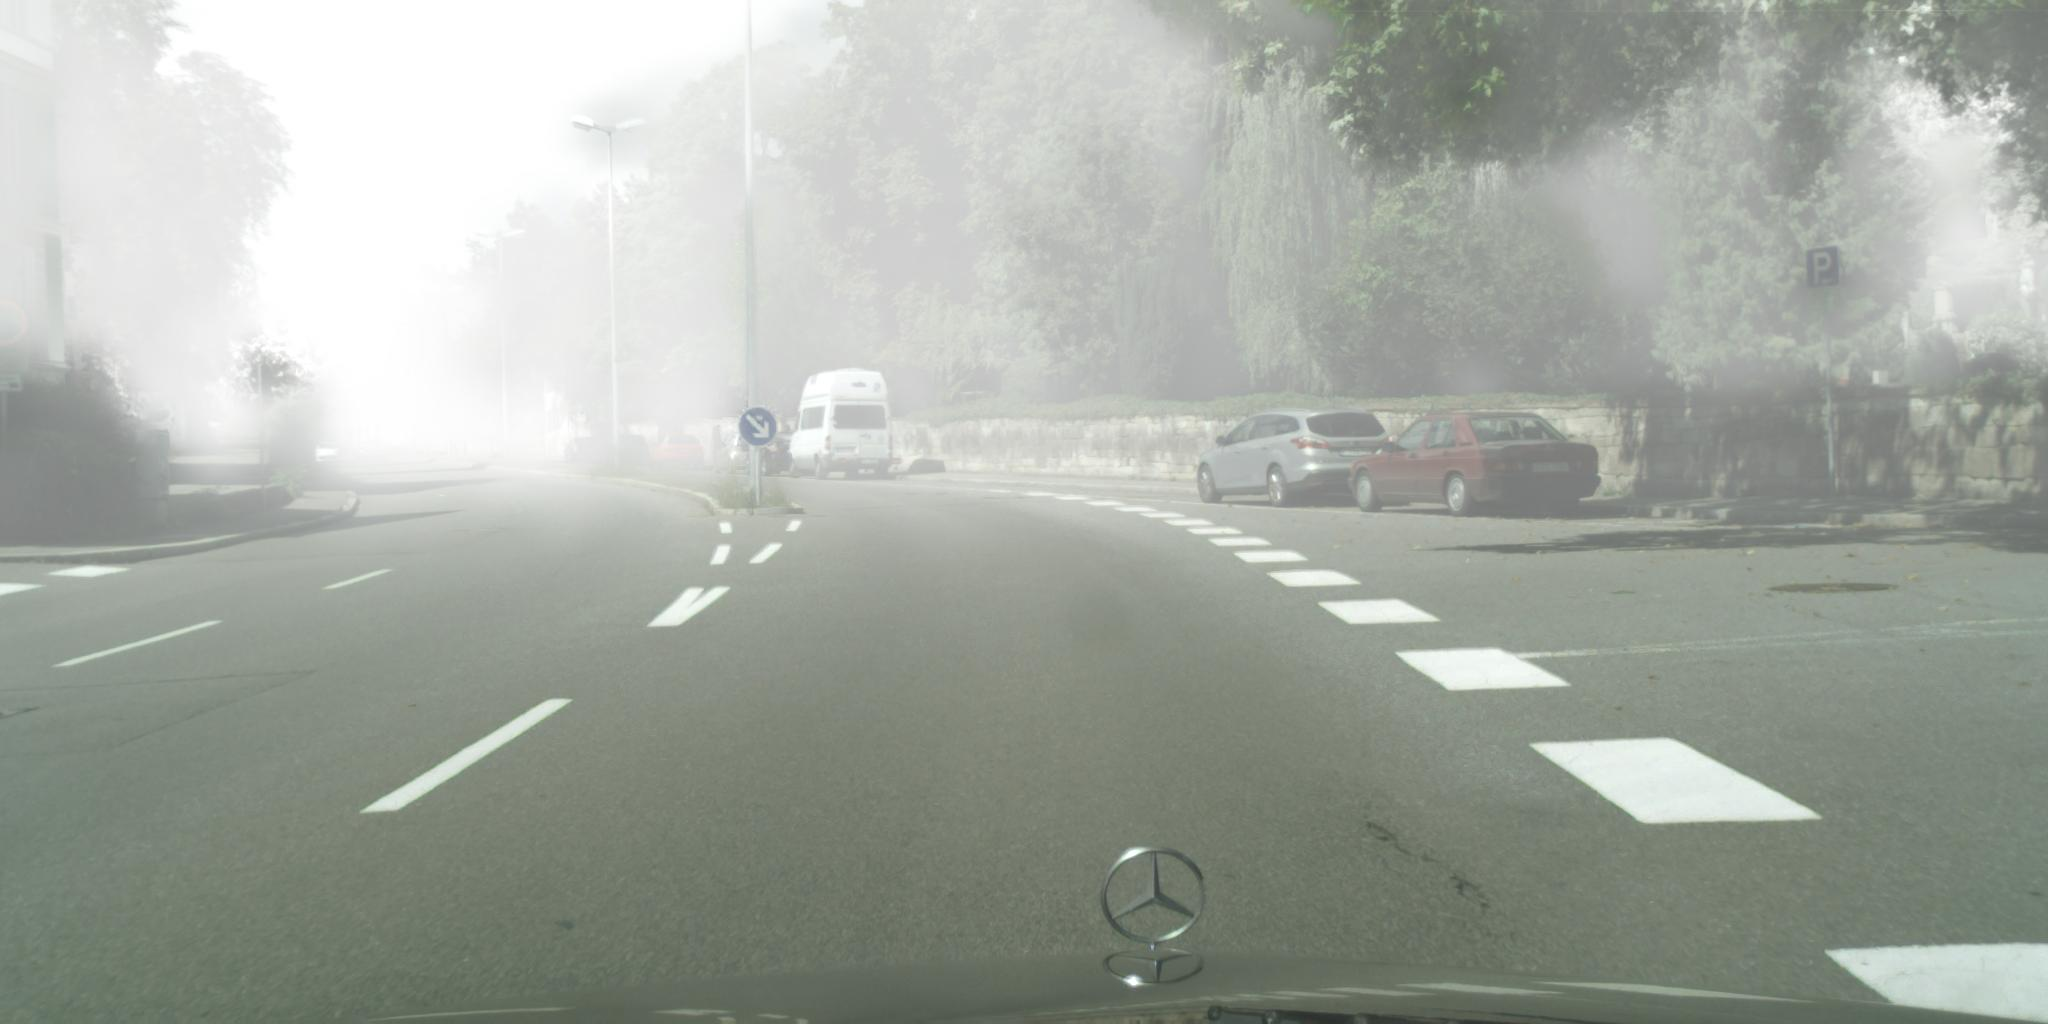car: (1349, 413, 1603, 519), (1196, 408, 1392, 509), (784, 368, 903, 482), (747, 434, 795, 477), (650, 435, 705, 472), (601, 436, 652, 475), (714, 434, 754, 475), (566, 438, 603, 466), (313, 443, 341, 465), (357, 444, 383, 464), (491, 440, 519, 458), (383, 444, 397, 455), (337, 445, 349, 456), (319, 438, 334, 445)
